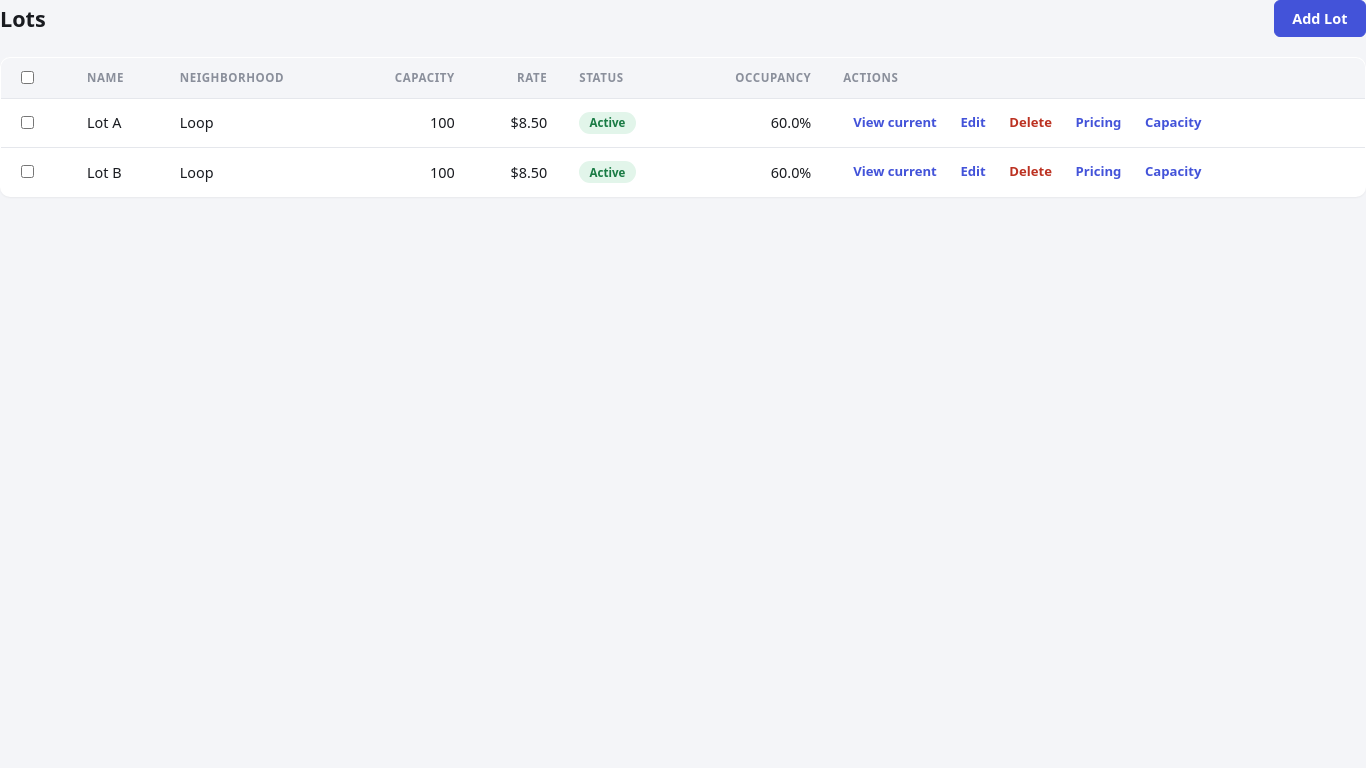
LotsPage bulk status mutation › invalidates and refetches lots even when a bulk status update partially fails
Expected: the text "Lot A" is shown, [71,98,164,148]
Click the checkbox named "Select Lot A" at point(28, 122), box [21,116,34,129]
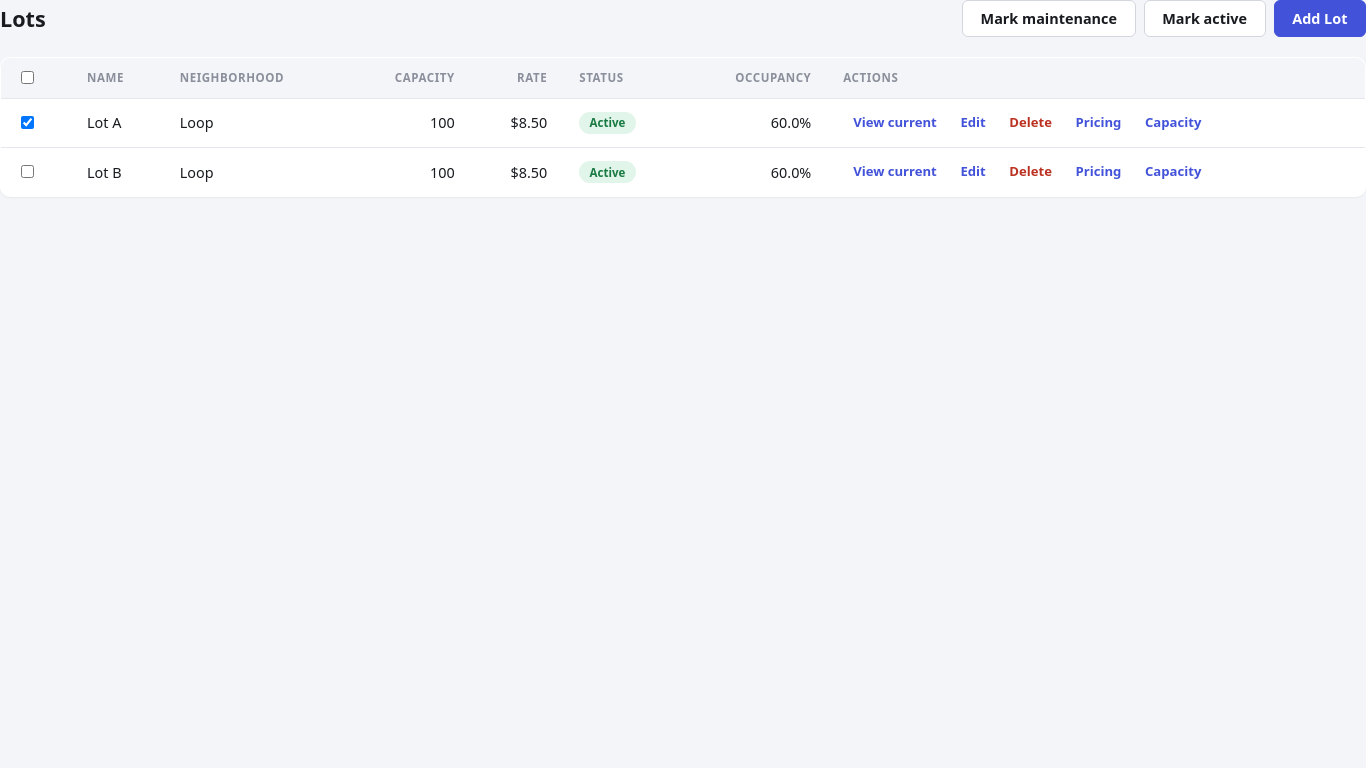
Click the checkbox named "Select Lot B" at point(28, 172), box [21,165,34,178]
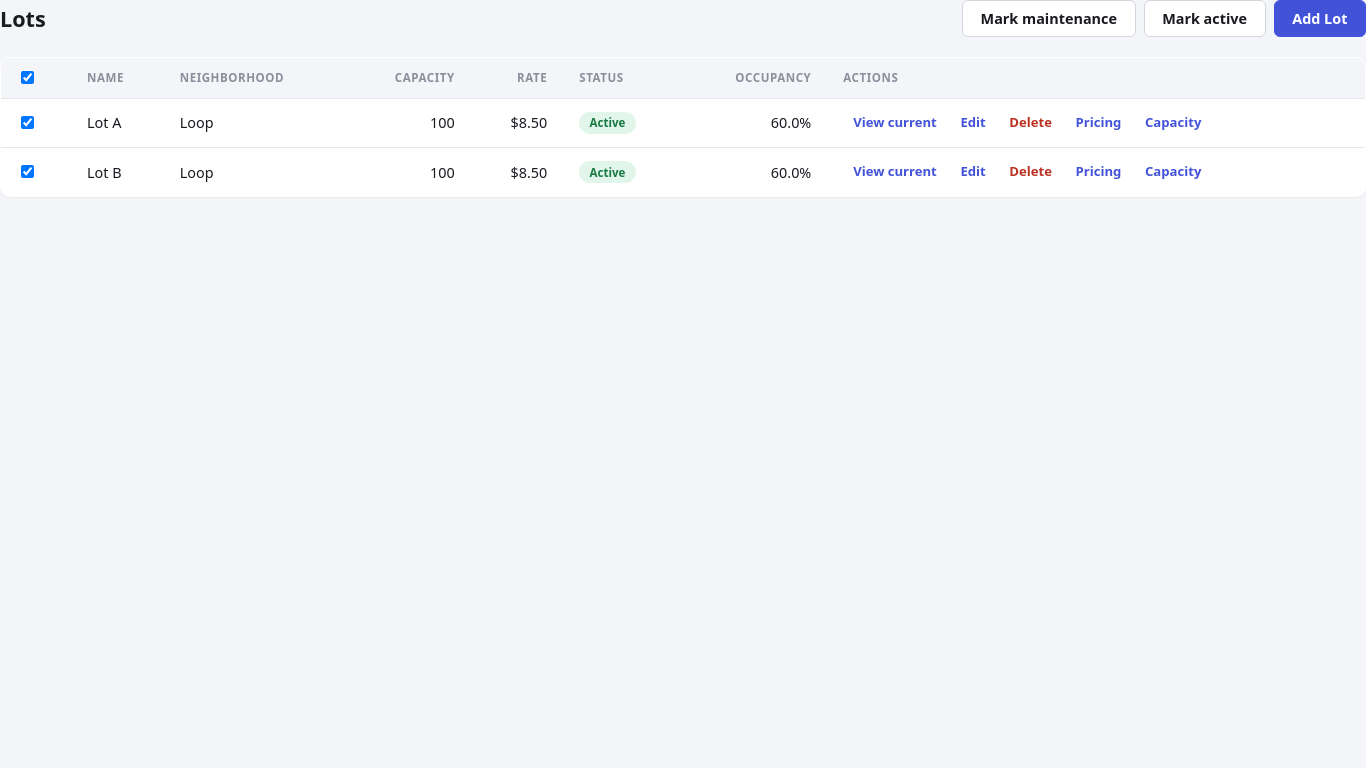
Click the button "Mark maintenance" at point(1049, 18), box [962,0,1136,37]
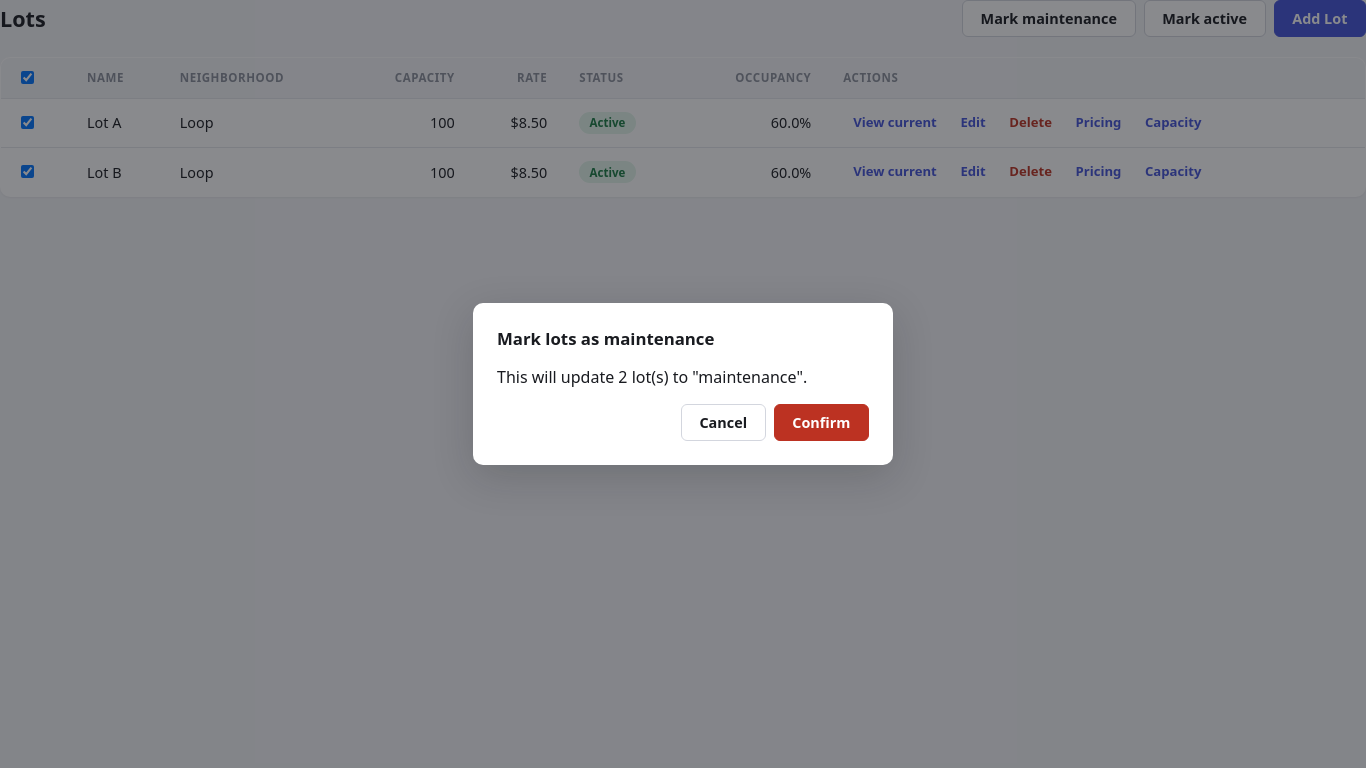
Click the button "Confirm" at point(821, 423), box [774,404,869,441]
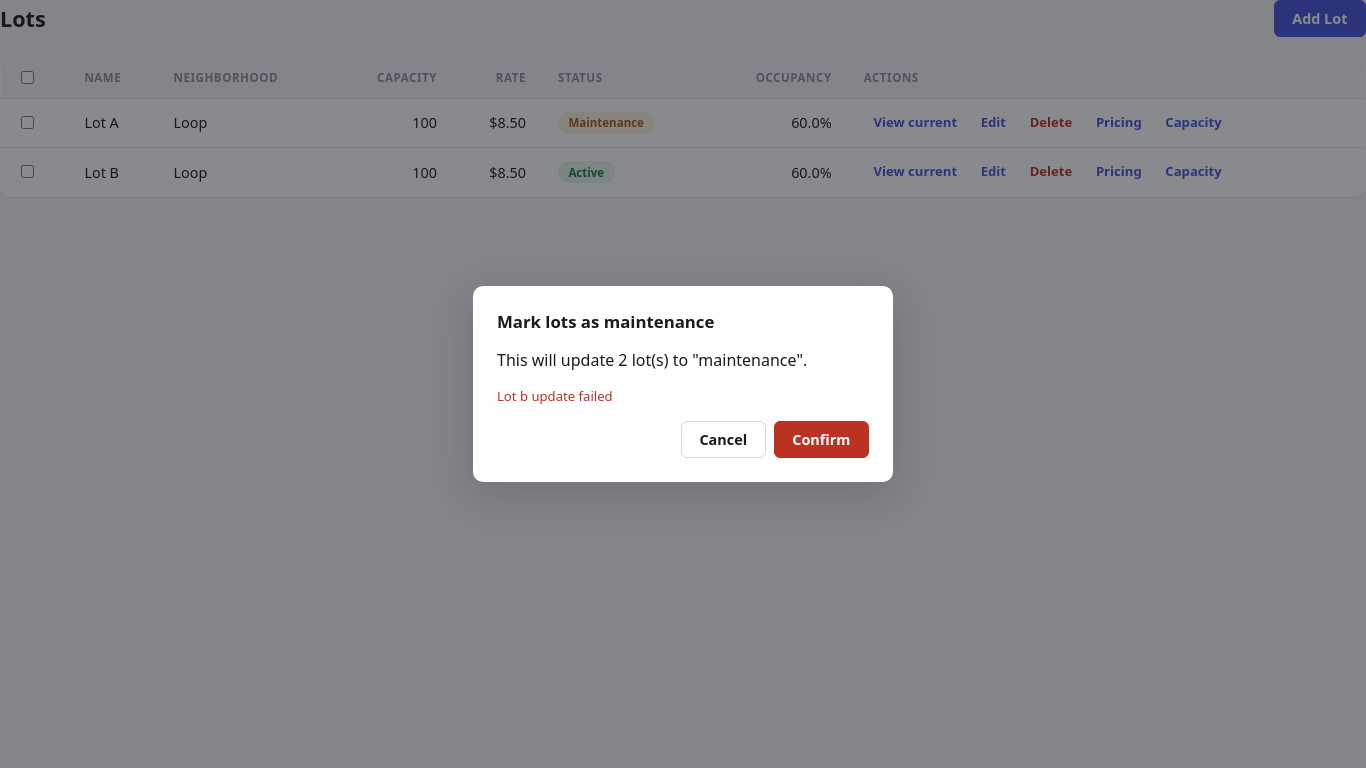
Expected: the checkbox named "Select Lot A" is not checked, [21,116,34,129]
Expected: the message reads "Lot b update failed", [497,387,613,405]
Expected: the text "Lot A" shows "maintenance", [568,116,644,130]
